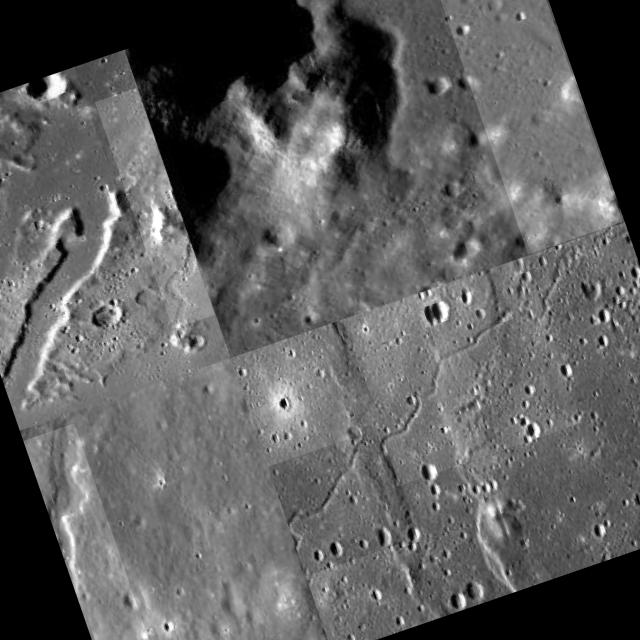rille: (336, 256, 582, 488), (422, 0, 622, 253), (23, 423, 172, 640), (95, 88, 214, 328), (74, 49, 188, 258), (268, 432, 403, 576), (502, 225, 640, 329)
